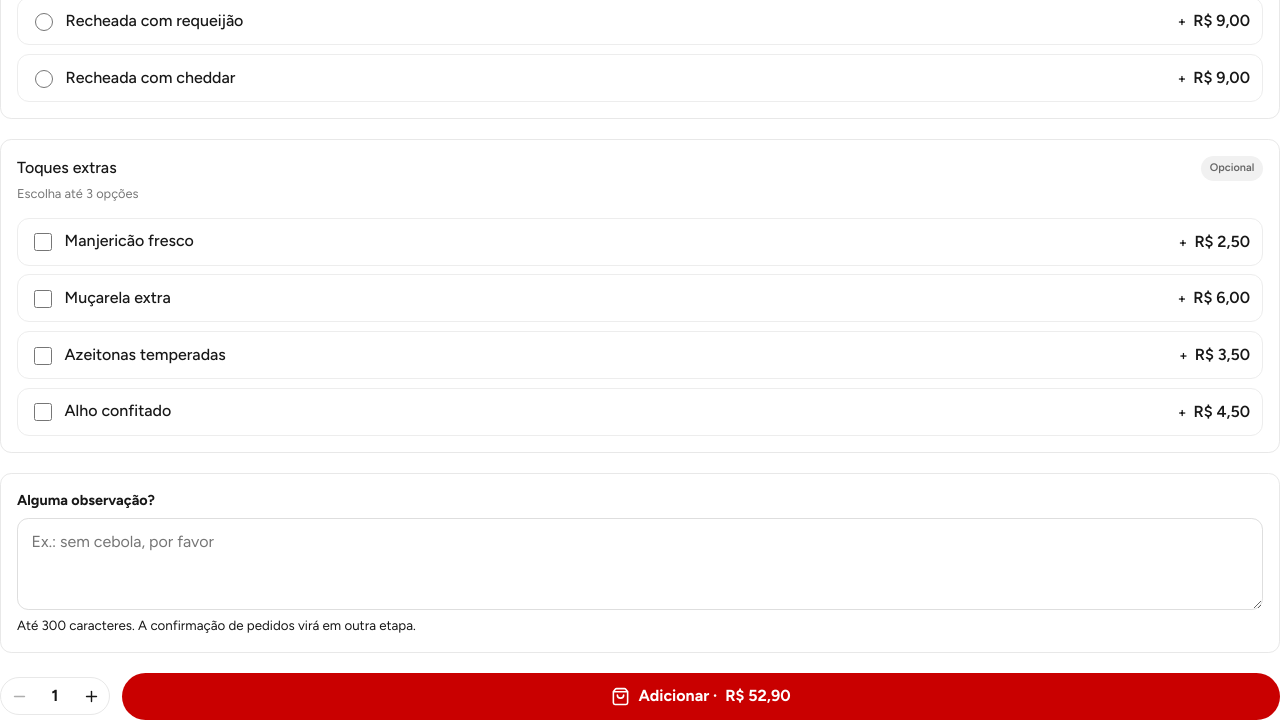
Test: ProductConfigurator › exibe validações e adiciona depois das escolhas obrigatórias
The width and height of the screenshot is (1280, 720).
(page scrolled)
Click the button "Adicionar · R$ 52,90" at (701, 696), box left=122, top=673, right=1279, bottom=719
(page scrolled)
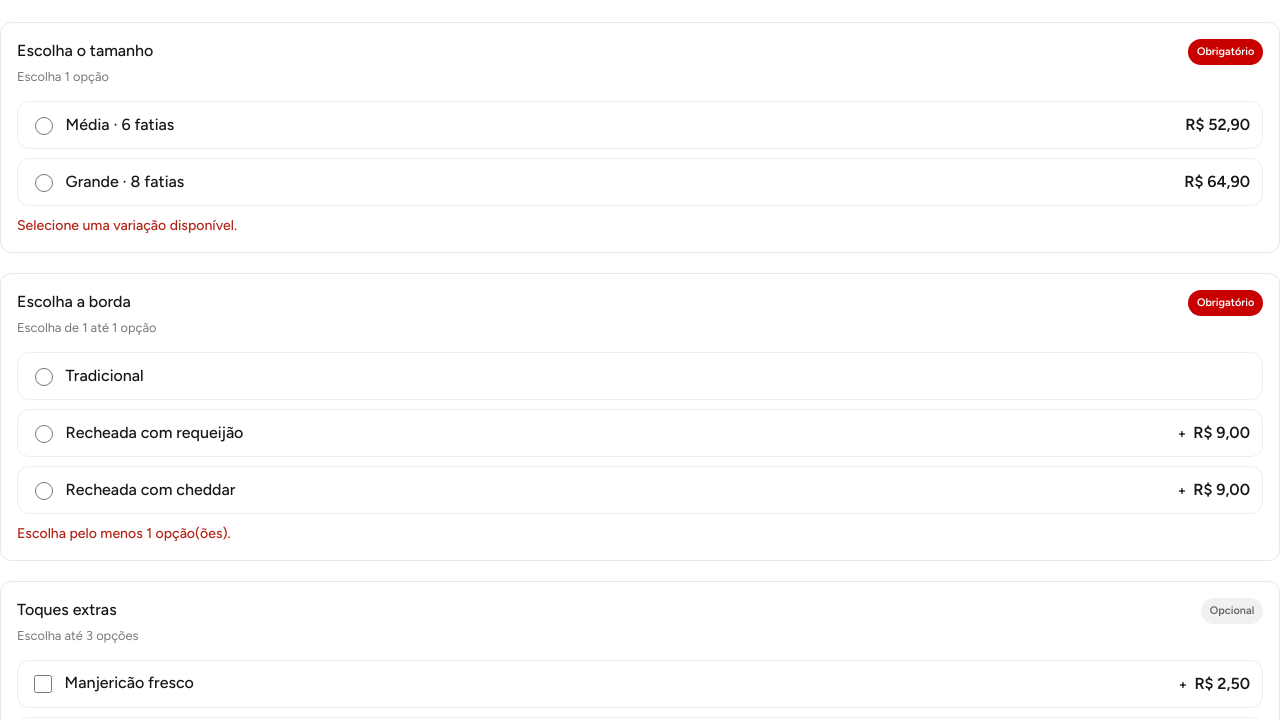
Check: the text "Selecione uma variação disponível." is shown, box left=17, top=217, right=237, bottom=234
Check: the text "Escolha pelo menos 1 opção(ões)." is shown, box left=17, top=525, right=231, bottom=542
Click the text "R$ 64,90" at (1217, 182), box left=1184, top=170, right=1250, bottom=194
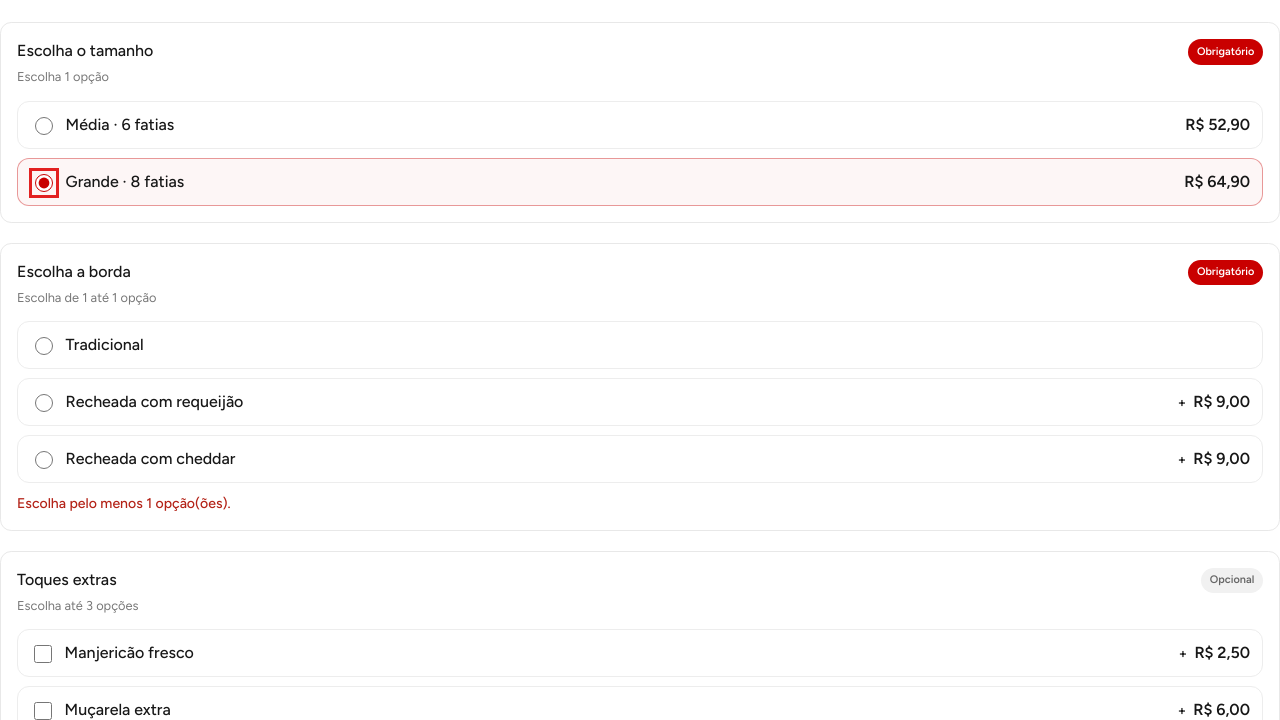
Check: the radio button labelled "Grande · 8 fatias R$ 64,90" is checked, box left=35, top=174, right=53, bottom=192
Click the radio button labelled "Média · 6 fatias R$ 52,90" at (44, 126), box left=35, top=117, right=53, bottom=135
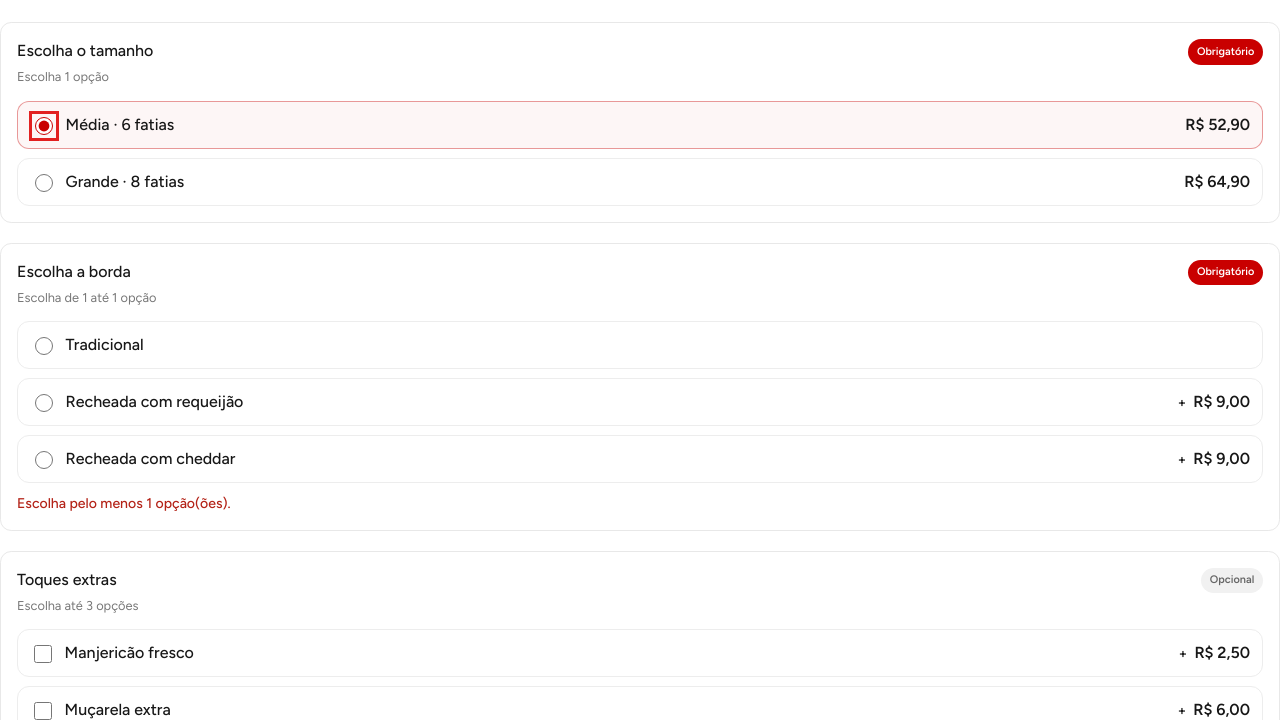
Click the radio button labelled "Tradicional" at (44, 346), box left=35, top=337, right=53, bottom=355
(page scrolled)
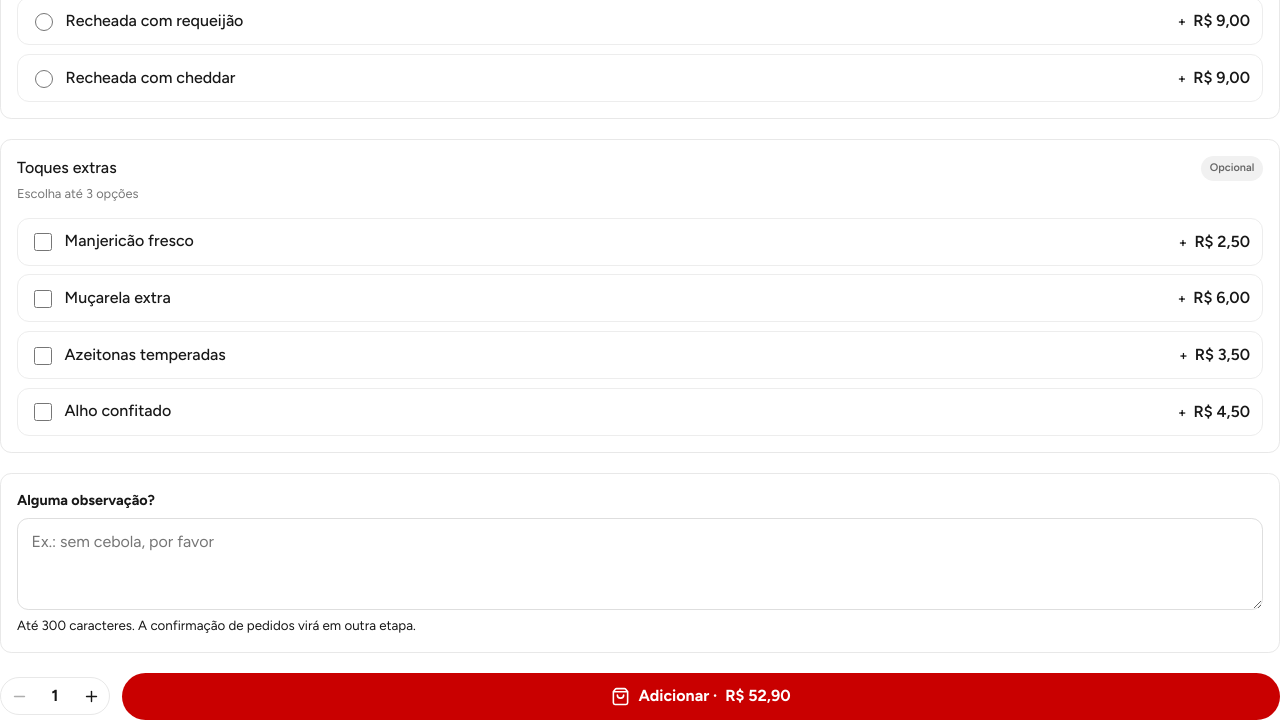
Click the button "Adicionar · R$ 52,90" at (701, 696), box left=122, top=673, right=1279, bottom=719
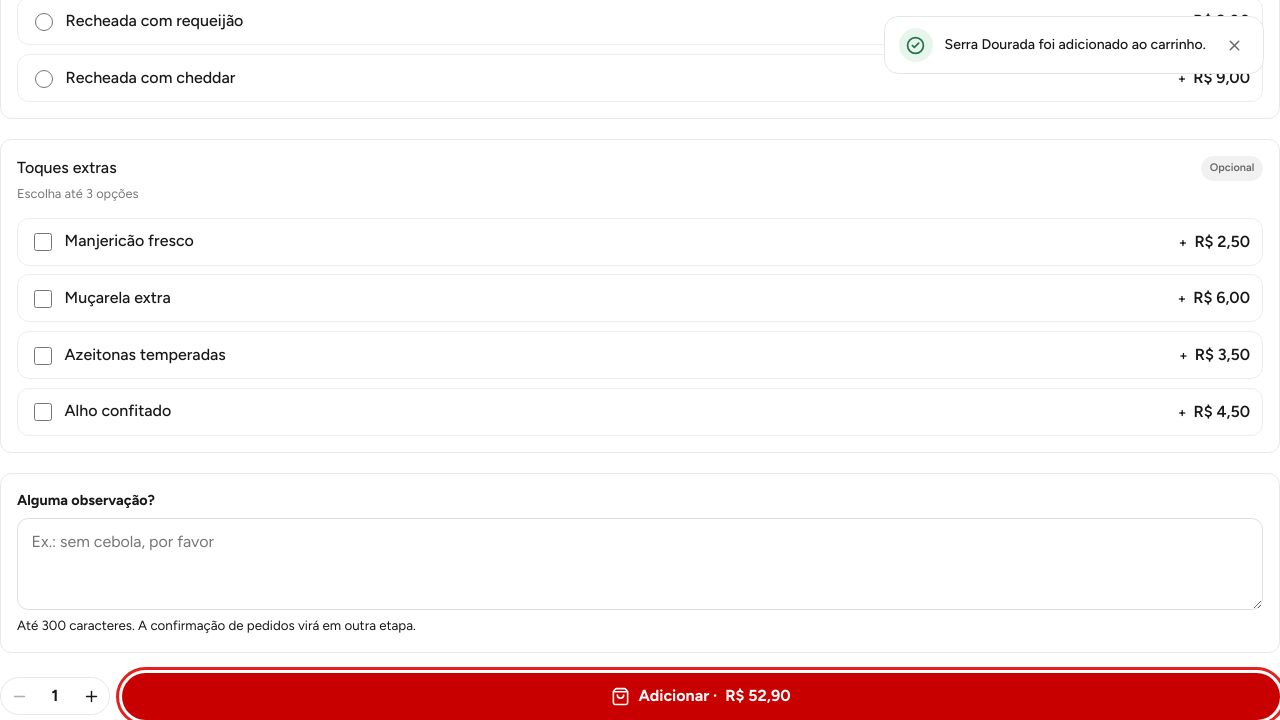
Check: the text "Serra Dourada foi adicionado ao carrinho." is shown, box left=945, top=35, right=1206, bottom=55
